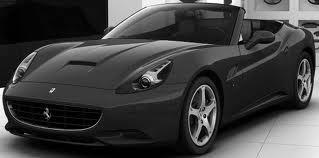car: (4, 3, 318, 158)
